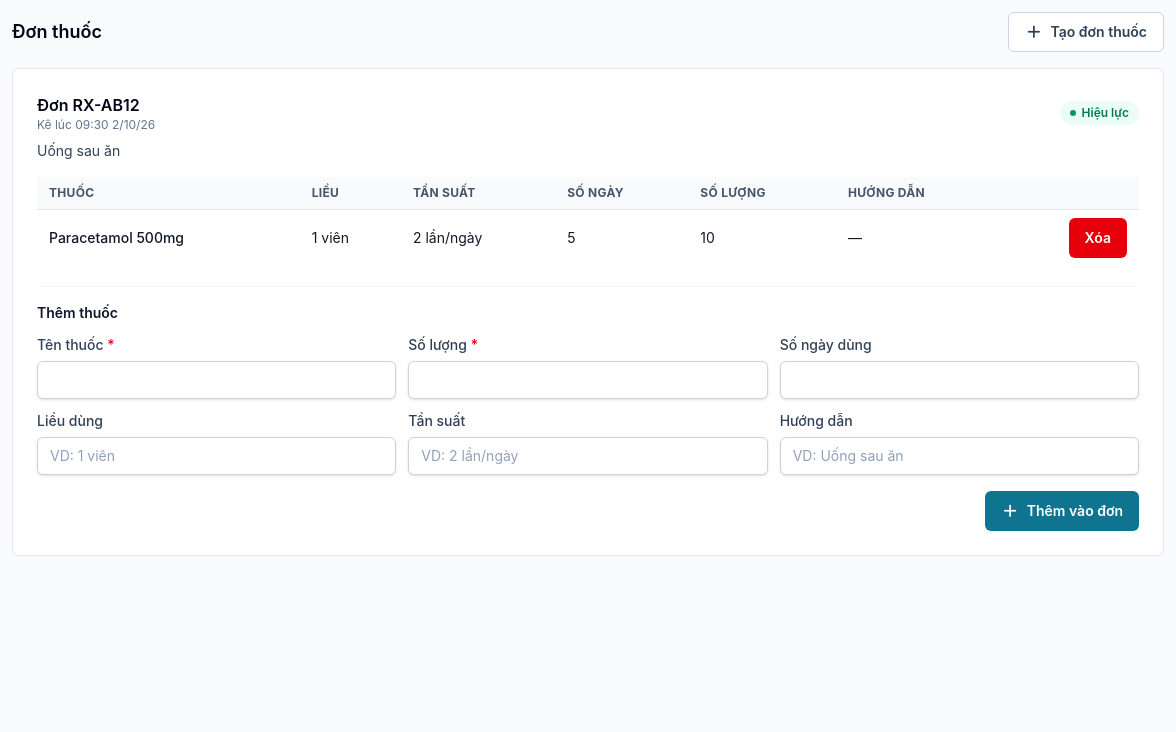
Test: EncounterPrescriptionsTab › 409 khi thêm thuốc: hiện lỗi và phát stale
Type "Amoxicillin" into the field with id "rx-20-name" at x=217, y=380, box 37,361 -> 396,399
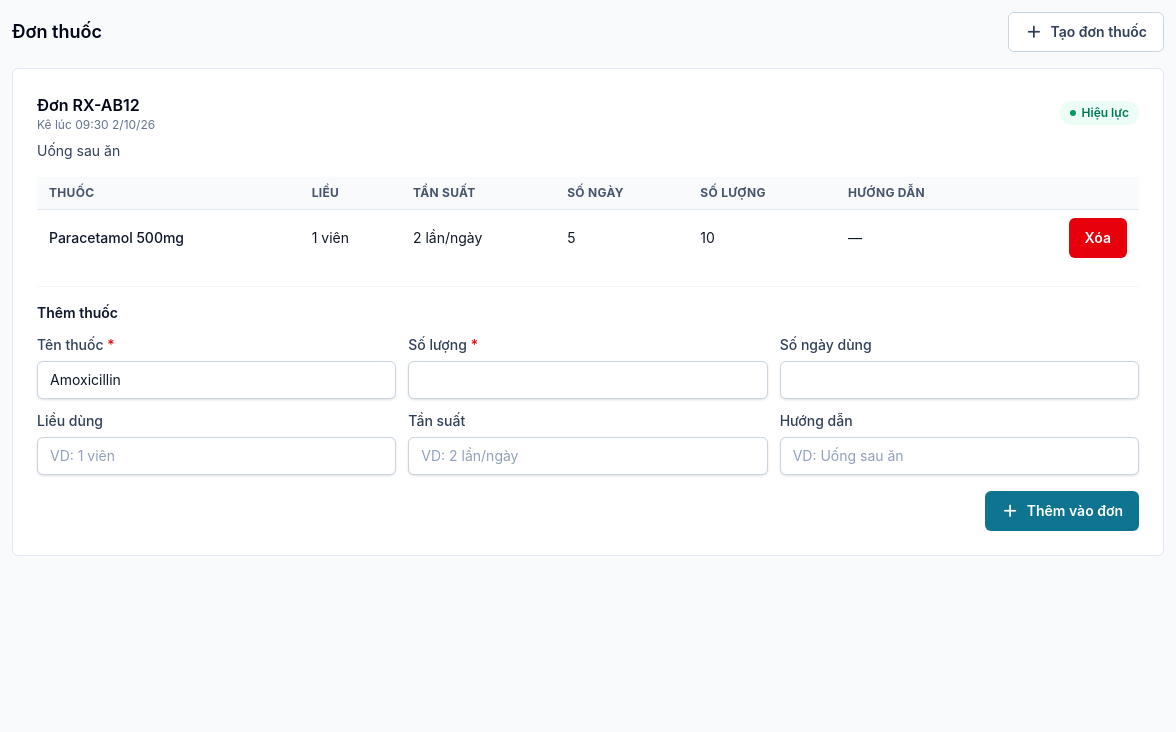
Type "3" into the number field with id "rx-20-quantity" at x=588, y=380, box 408,361 -> 768,399
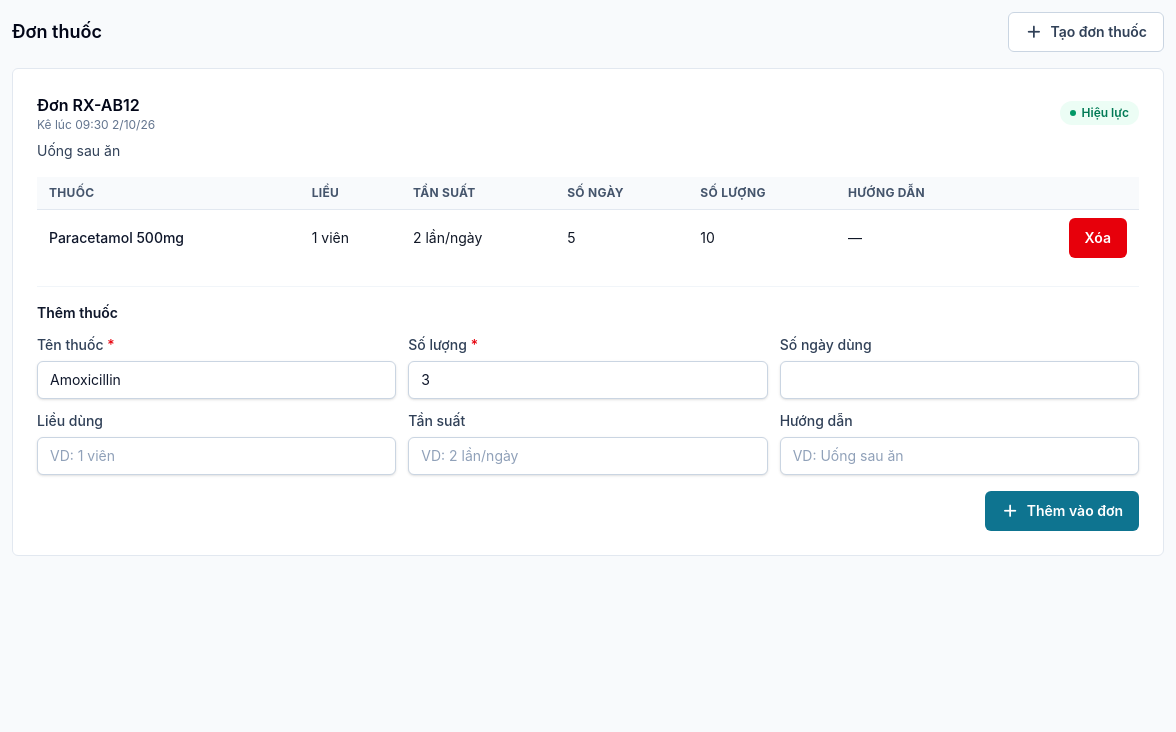
Submit the form with test id "item-form-20", box 37,286 -> 1139,531
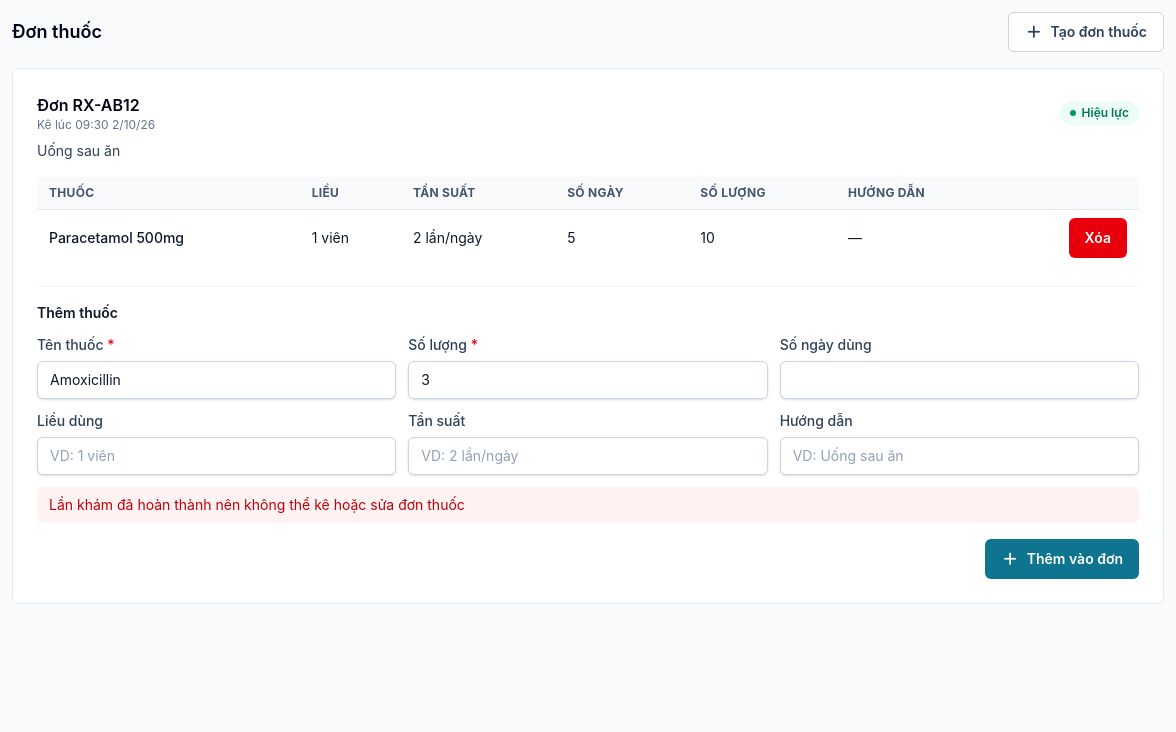
Check: the message with test id "item-error" shows "đã hoàn thành", box 49,496 -> 465,513
